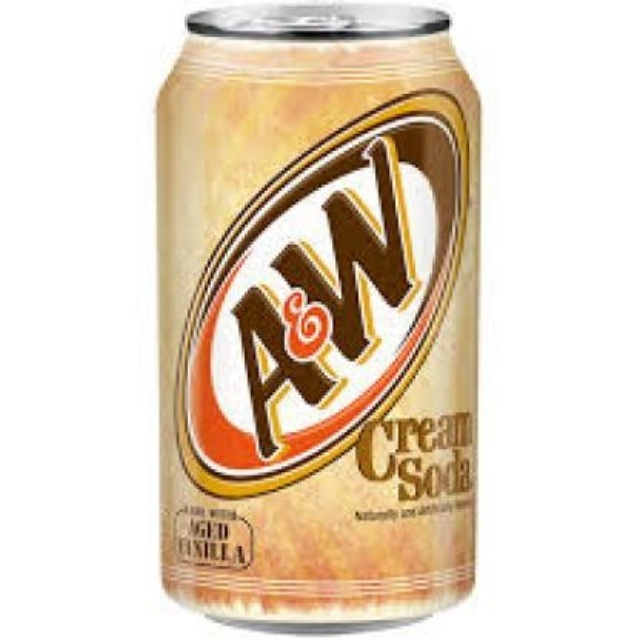trash: (157, 3, 478, 622)
